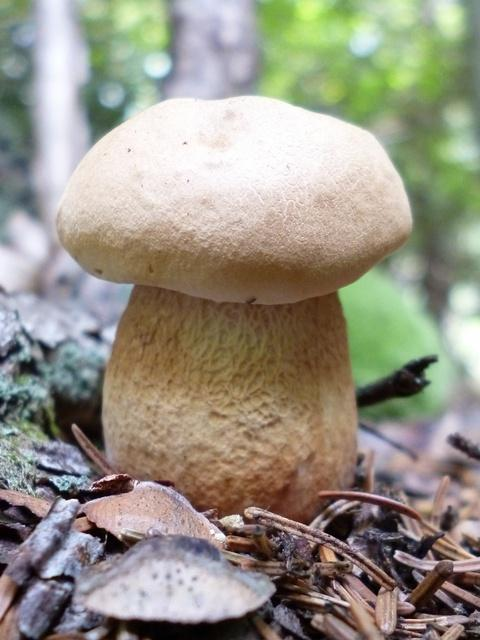poisonous_mushroom: (54, 93, 414, 524)
